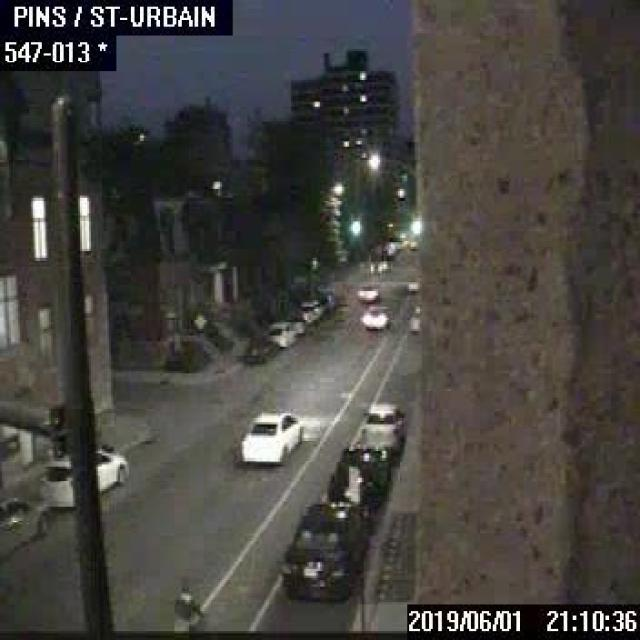cyclist: (171, 581, 202, 631)
vehicle: (280, 500, 370, 599), (41, 442, 128, 508), (327, 444, 392, 512), (238, 407, 304, 462), (0, 493, 49, 562), (360, 400, 407, 453), (267, 319, 302, 346), (246, 334, 278, 363), (360, 303, 391, 331), (296, 298, 322, 322), (316, 286, 337, 310), (357, 283, 379, 302), (407, 304, 419, 334), (402, 277, 418, 291), (368, 258, 382, 272), (381, 257, 391, 270)
